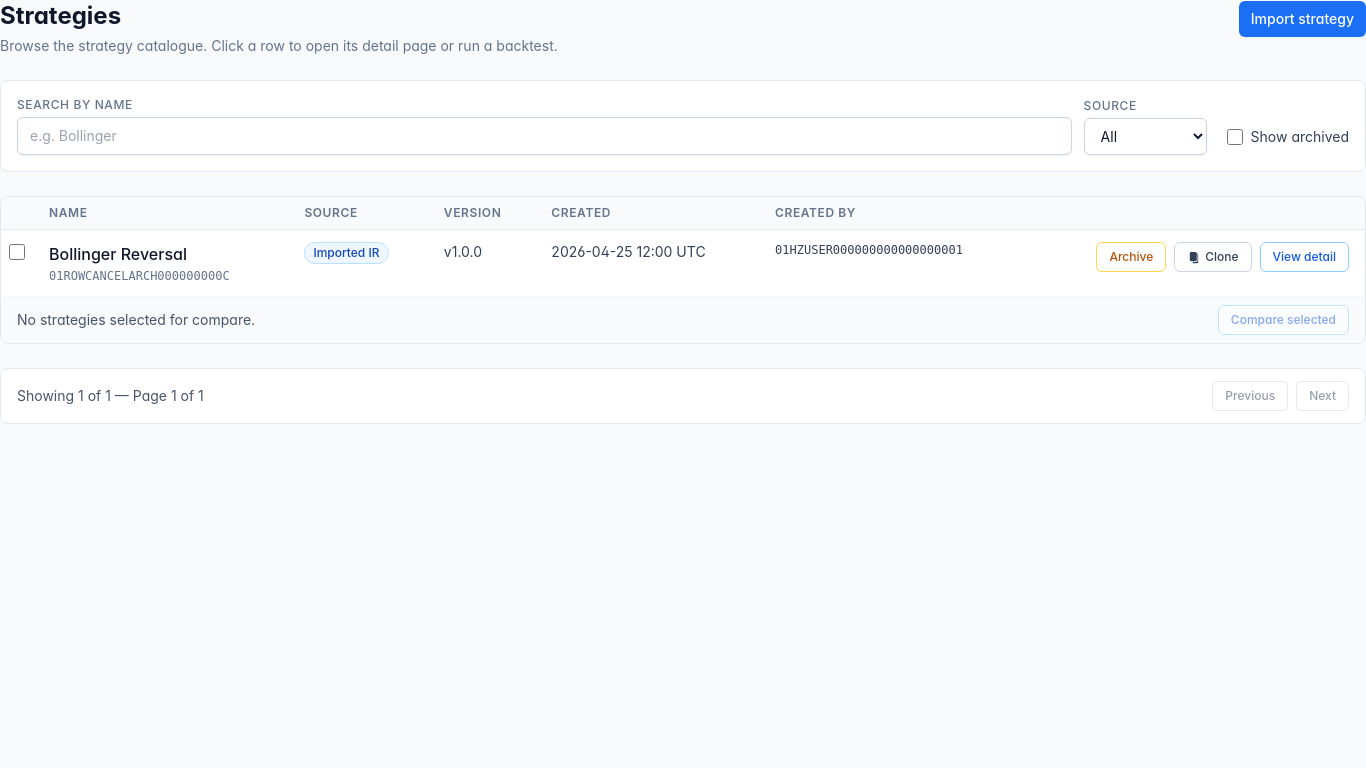
Test case: Strategies browse page › Cancel on the archive dialog dismisses without firing the API
expect the table with test id "strategies-table" is shown: met, box [1,197,1365,296]
What coordinates should you click on to do the following:
click the button "Archive"
I would click on:
 (1131, 257)
Its box is [1096,242,1166,272].
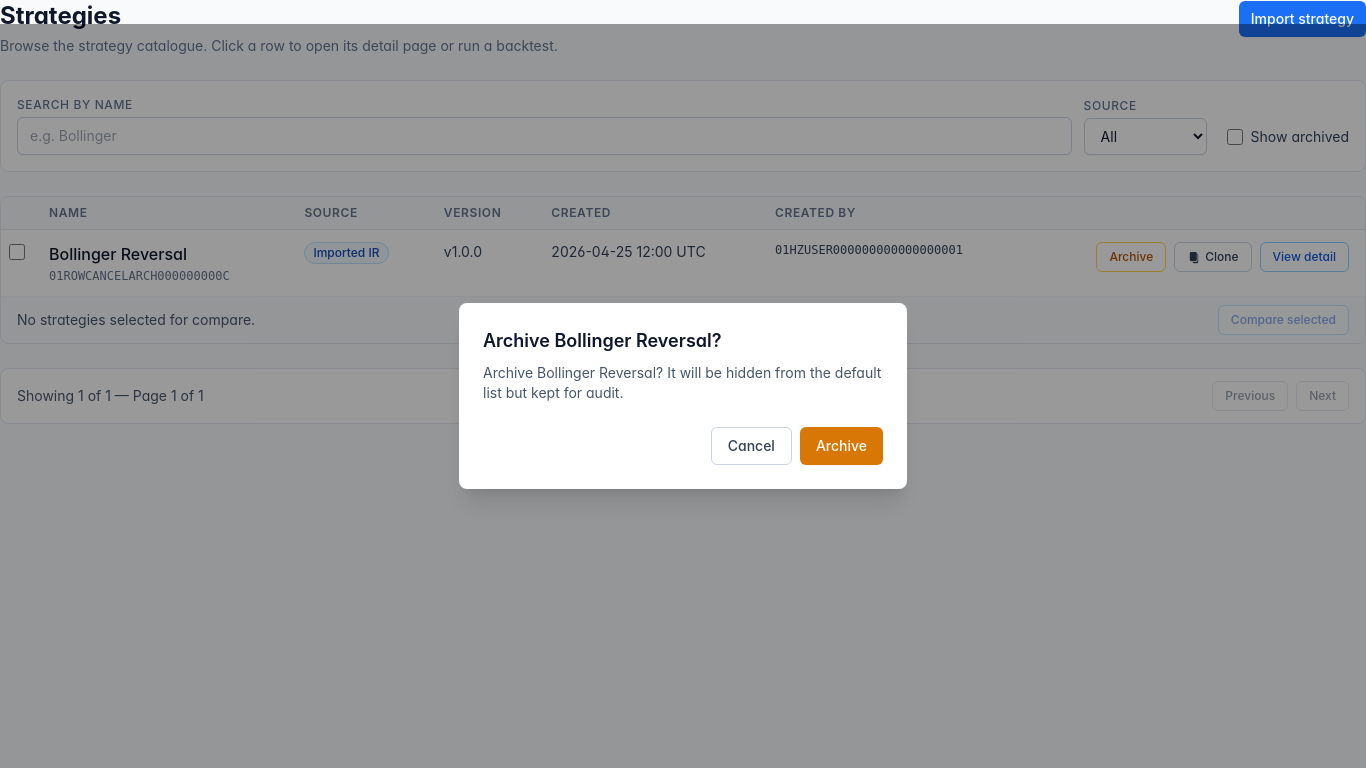
expect the dialog with test id "strategies-archive-modal" is shown: met
What coordinates should you click on to do the following:
click the button with test id "strategies-archive-cancel"
I would click on:
 (751, 446)
Its box is [711,427,792,465].
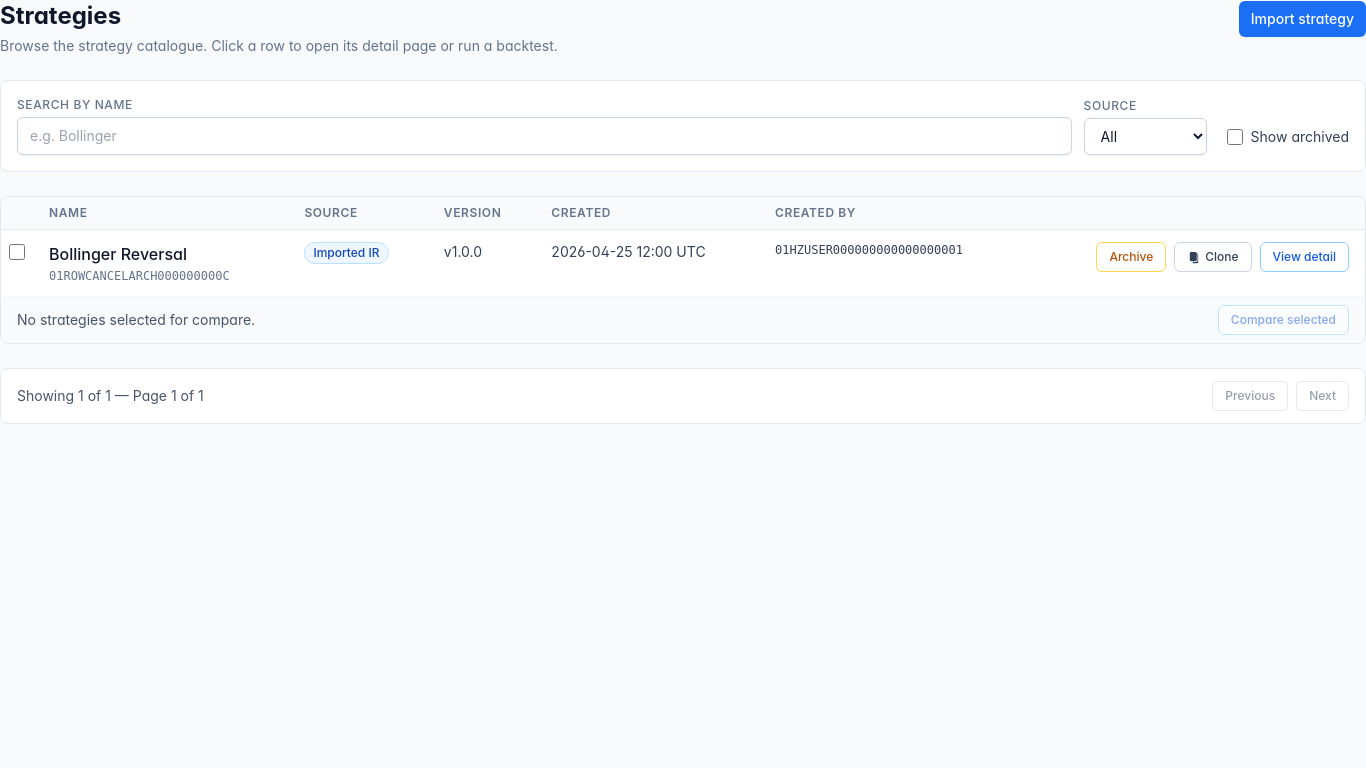
expect the dialog with test id "strategies-archive-modal" is gone: met
